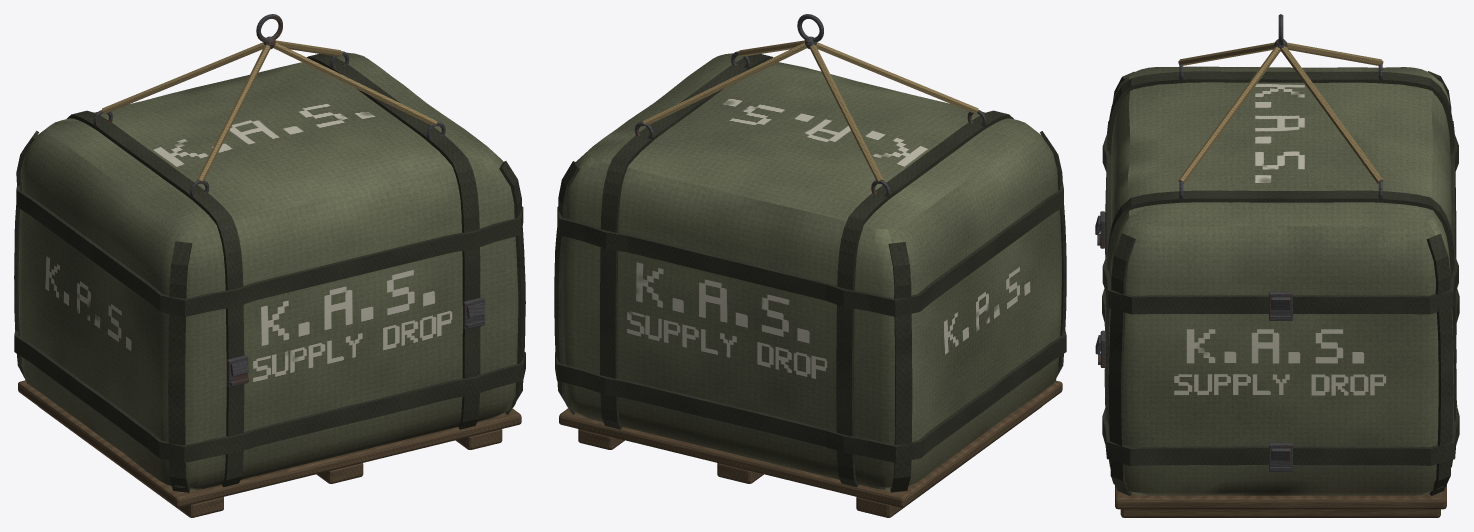
The model's file is KnoxSupplyCrate.fbx.
3 views of the same model, side by side, from view 1: azimuth 30°, elevation 25°; view 2: azimuth 150°, elevation 25°; view 3: azimuth 270°, elevation 25° (orthographic). The views are drawn at different scales.
Visible parts, largest first — view 1: KnoxSupplyCrate.001; view 2: KnoxSupplyCrate.001; view 3: KnoxSupplyCrate.001.
Boxes of the visible parts, x1,y1,x2,y2 form: KnoxSupplyCrate.001: (14,14,525,517); KnoxSupplyCrate.001: (554,14,1066,517); KnoxSupplyCrate.001: (1095,14,1459,517).
Size of the model in its own units: 1.07 by 1.13 by 0.8777.
1 material, 1 textured.
